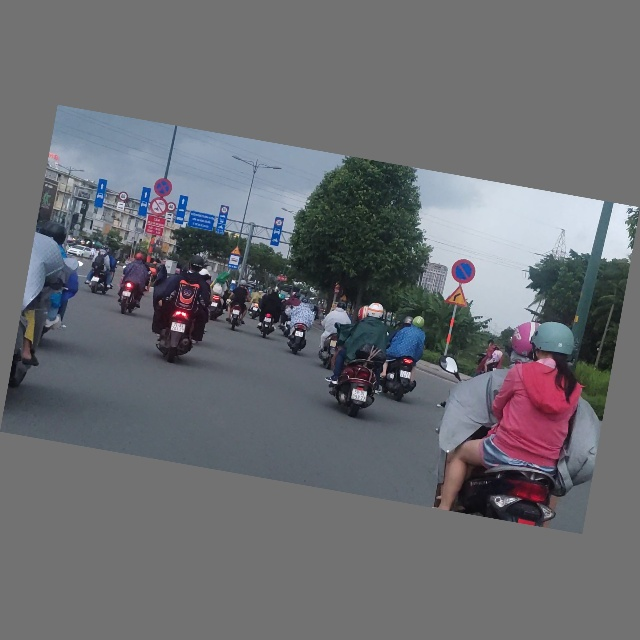I.434a: (228, 255, 241, 270)
P.111: (148, 196, 169, 218)
P.127*50: (220, 206, 229, 215), (275, 220, 283, 228)
P.127*80: (118, 191, 129, 202)
P.130: (152, 177, 174, 199)
P.131a: (449, 258, 477, 287)
S.505a*Xe tai va cong: (165, 213, 174, 222)
W.201b: (445, 284, 471, 308), (230, 245, 243, 257)
